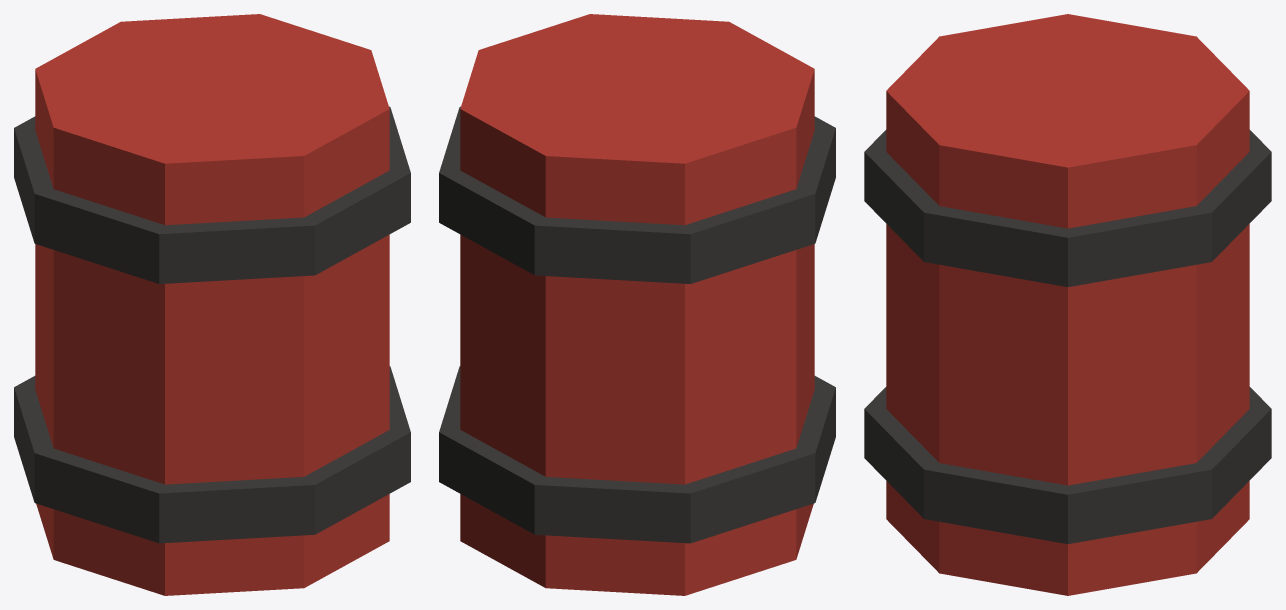
The model's file is barrel_fuel.fbx.
3 views of the same model, side by side, from view 1: azimuth 30°, elevation 25°; view 2: azimuth 150°, elevation 25°; view 3: azimuth 270°, elevation 25° (orthographic).
Parts seen in each view (by area): view 1: barrel_fuel; view 2: barrel_fuel; view 3: barrel_fuel.
Boxes of the visible parts, left/top/right/bottom form: barrel_fuel: left=14, top=14, right=410, bottom=595; barrel_fuel: left=439, top=14, right=835, bottom=595; barrel_fuel: left=864, top=14, right=1271, bottom=595.
Size of the model in its own units: 0.672 by 0.78 by 0.672.
